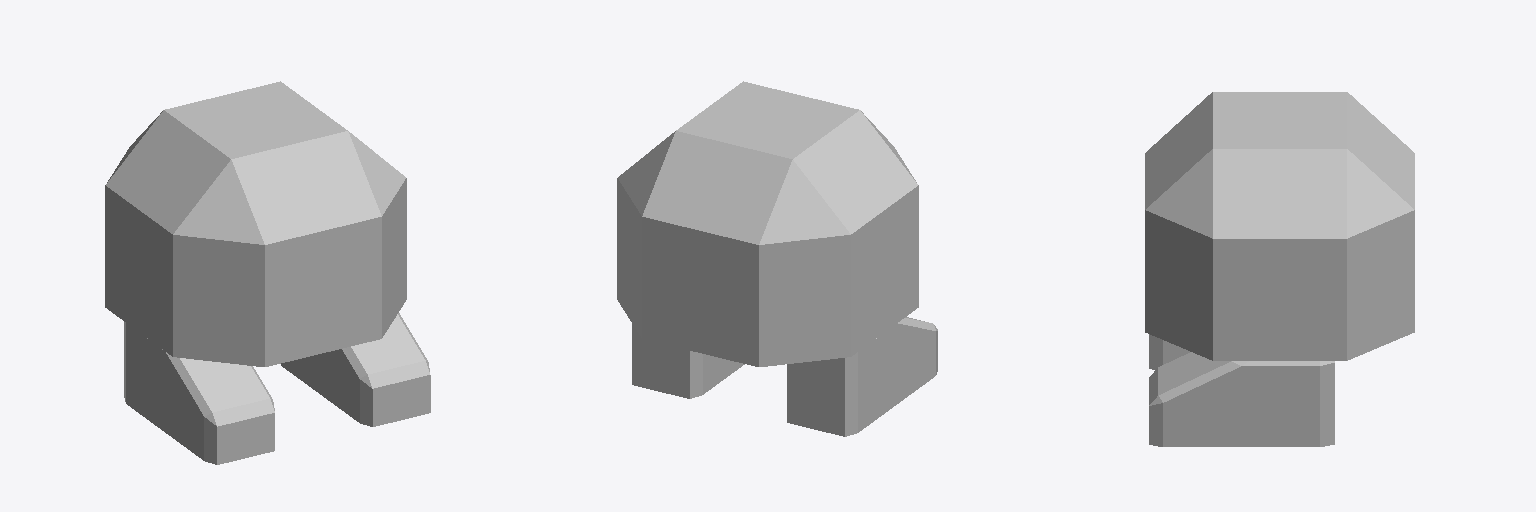
File: Player.obj
The picture shows the model from 3 angles: view 1: azimuth 30°, elevation 25°; view 2: azimuth 150°, elevation 25°; view 3: azimuth 270°, elevation 25°; orthographic projection.
Visible parts, largest first — view 1: 立方体; view 2: 立方体; view 3: 立方体.
Part boxes in pixels (x1,y1,x2,y2): 立方体: (105, 81, 430, 464); 立方体: (617, 81, 937, 436); 立方体: (1145, 92, 1414, 446).
Size of the model in its own units: 2 by 2.22 by 2.